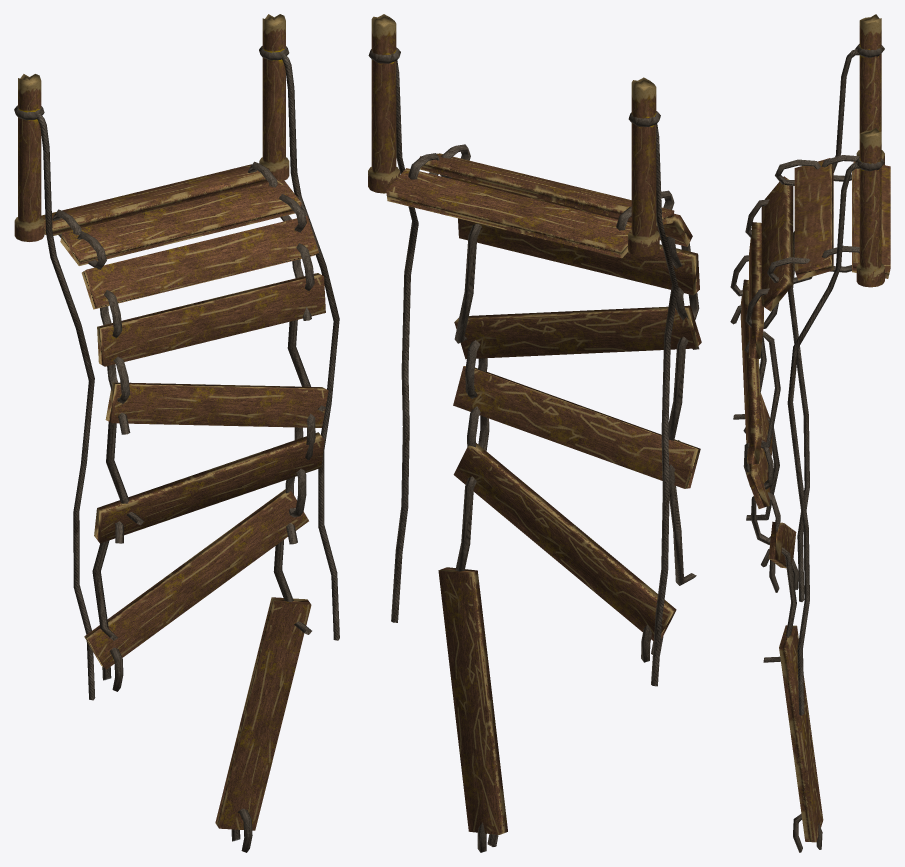
Rendered from bridge.fbx.
3 views of the same model, side by side, from view 1: azimuth 30°, elevation 25°; view 2: azimuth 150°, elevation 25°; view 3: azimuth 270°, elevation 25° (orthographic). The views are drawn at different scales.
Visible parts, largest first — view 1: transform1_7, transform1_8, transform1_4, transform1_3, transform1_5, transform1_2, transform1_6, pTorus5, pTorus7, transform1_1, pCube28, pCube40 (+3 smaller); view 2: transform1_8, transform1_6, transform1_7, transform1_5, transform1_1, pTorus5, pTorus7, transform1_4, transform1_2, pCube41, pCube40, transform1_3 (+4 smaller); view 3: pTorus7, pTorus5, transform1_2, transform1_8, transform1_3, transform1_5, transform1_1, transform1_4, transform1_6, transform1_7, pCube41, pCube45 (+10 smaller).
Part boxes in pixels (bbox=[...]): transform1_7: bbox=[84, 489, 308, 669]; transform1_8: bbox=[215, 597, 311, 830]; transform1_4: bbox=[97, 273, 325, 366]; transform1_3: bbox=[81, 216, 318, 309]; transform1_5: bbox=[105, 382, 328, 427]; transform1_2: bbox=[60, 179, 301, 265]; transform1_6: bbox=[94, 432, 324, 543]; pTorus5: bbox=[14, 74, 95, 700]; pTorus7: bbox=[259, 14, 339, 640]; transform1_1: bbox=[41, 164, 267, 235]; pCube28: bbox=[106, 412, 144, 525]; pCube40: bbox=[92, 521, 123, 640]; transform1_8: bbox=[438, 567, 507, 834]; transform1_6: bbox=[453, 366, 700, 488]; transform1_7: bbox=[453, 443, 676, 640]; transform1_5: bbox=[454, 305, 701, 359]; transform1_1: bbox=[386, 168, 631, 258]; pTorus5: bbox=[628, 77, 678, 686]; pTorus7: bbox=[368, 14, 418, 622]; transform1_4: bbox=[458, 218, 699, 295]; transform1_2: bbox=[420, 153, 674, 225]; pCube41: bbox=[454, 223, 481, 343]; pCube40: bbox=[669, 464, 696, 585]; transform1_3: bbox=[449, 177, 692, 246]; pTorus7: bbox=[787, 127, 884, 715]; pTorus5: bbox=[788, 14, 884, 601]; transform1_2: bbox=[794, 158, 833, 280]; transform1_8: bbox=[779, 625, 823, 842]; transform1_3: bbox=[761, 176, 793, 311]; transform1_5: bbox=[740, 279, 762, 463]; transform1_1: bbox=[852, 161, 890, 278]; transform1_4: bbox=[749, 222, 763, 358]; transform1_6: bbox=[746, 393, 772, 508]; transform1_7: bbox=[768, 521, 796, 568]; pCube41: bbox=[744, 331, 780, 448]; pCube45: bbox=[761, 547, 796, 662].
Size of the model in its own units: 10.52 by 27.57 by 5.32.
Materials: 1 (1 with a texture image).
